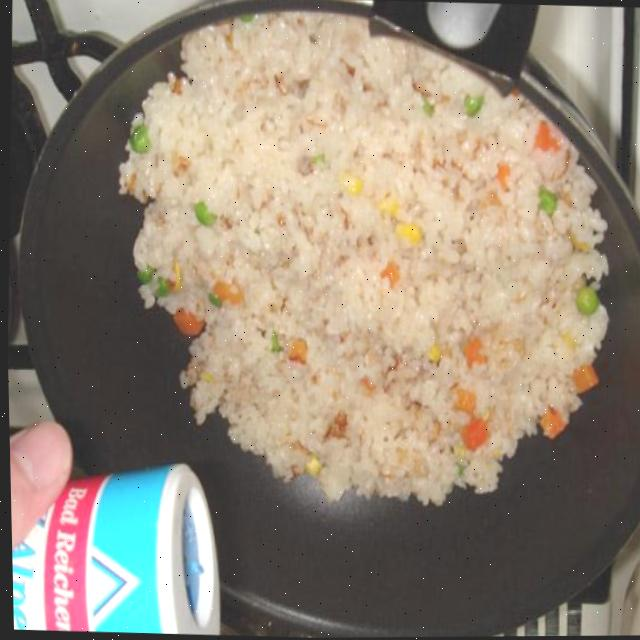米饭主食: (97, 0, 620, 508)
